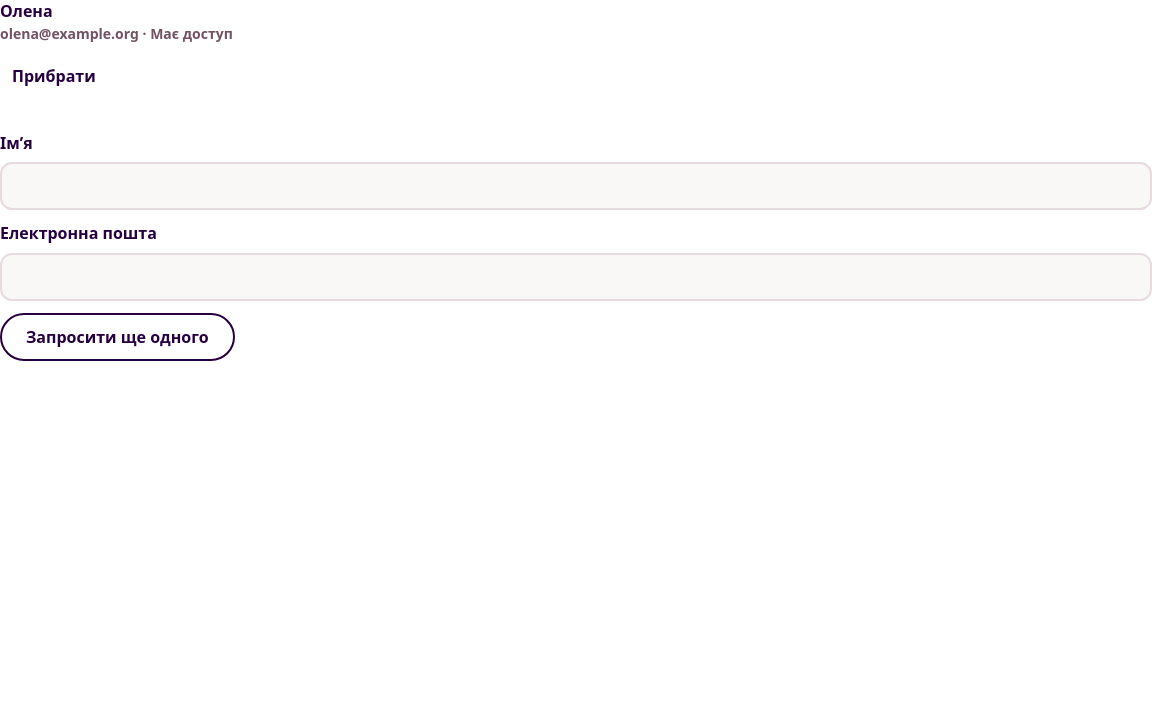
remove asks first › removing the last admin: the list says none, and focus goes to the invite's first field
The image size is (1152, 720).
Click the button "Прибрати" at [54, 76], box [0,52,108,100]
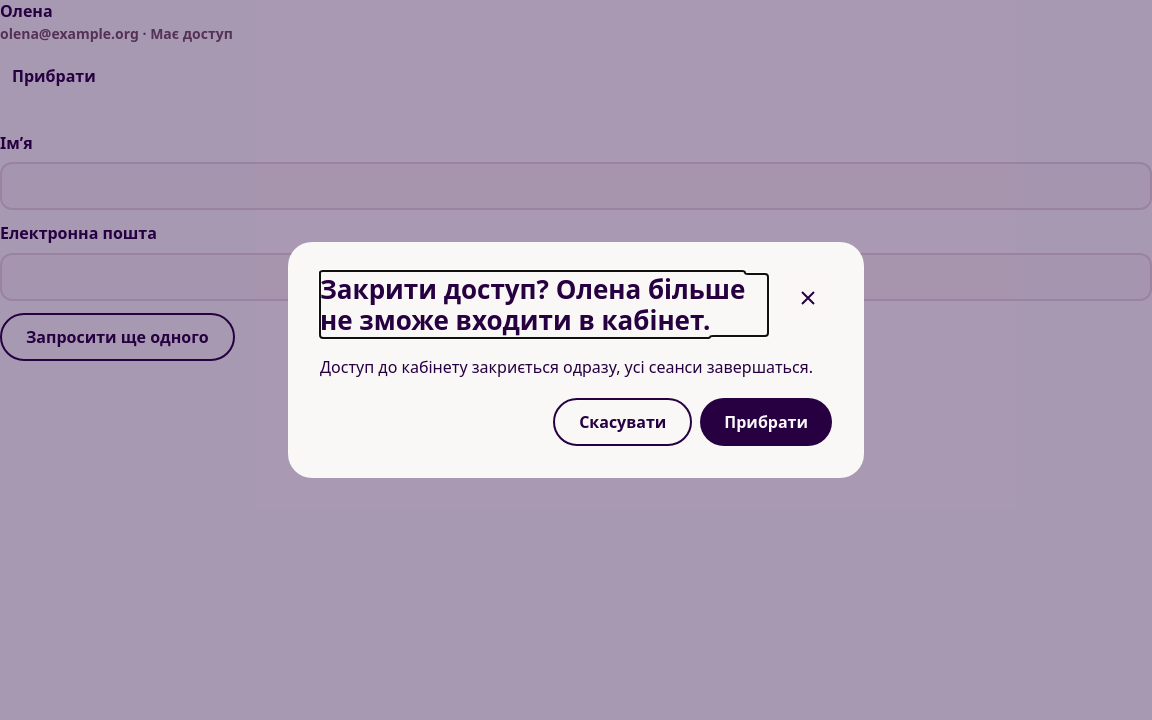
Click the button "Прибрати" at [766, 422], box [700,398,832,446]
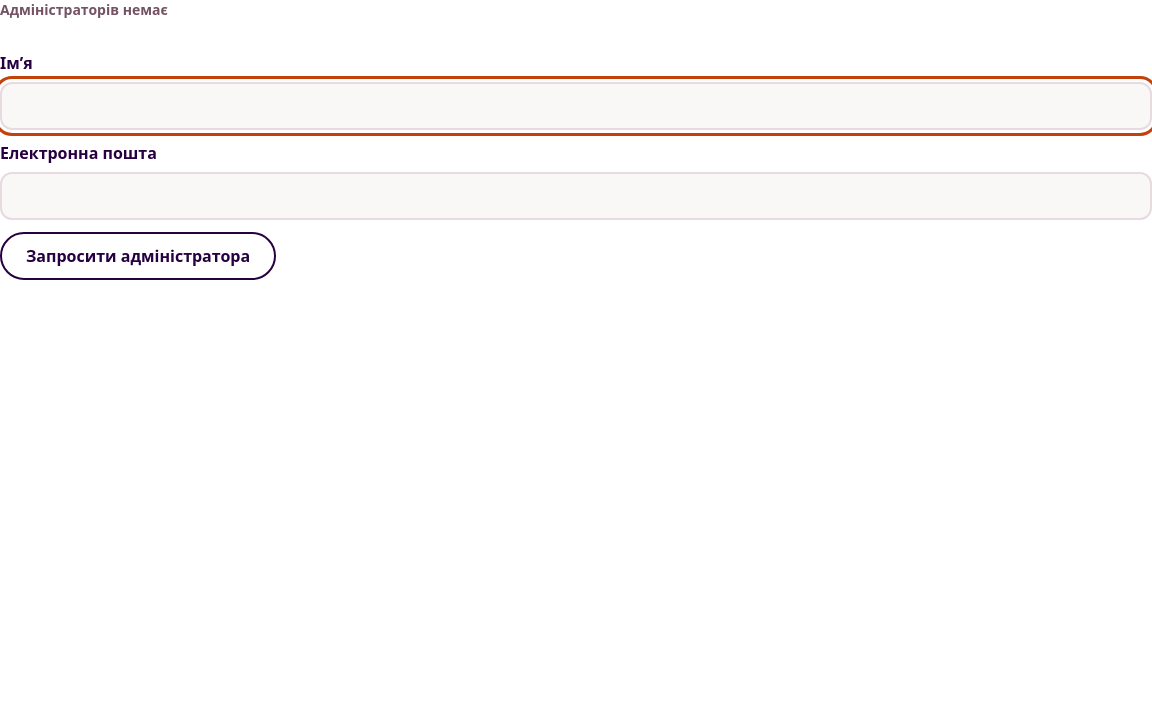
Result: the text "Адміністраторів немає" is shown at [0,0,168,19]
Result: the button "Запросити адміністратора" is shown at [0,232,276,280]
